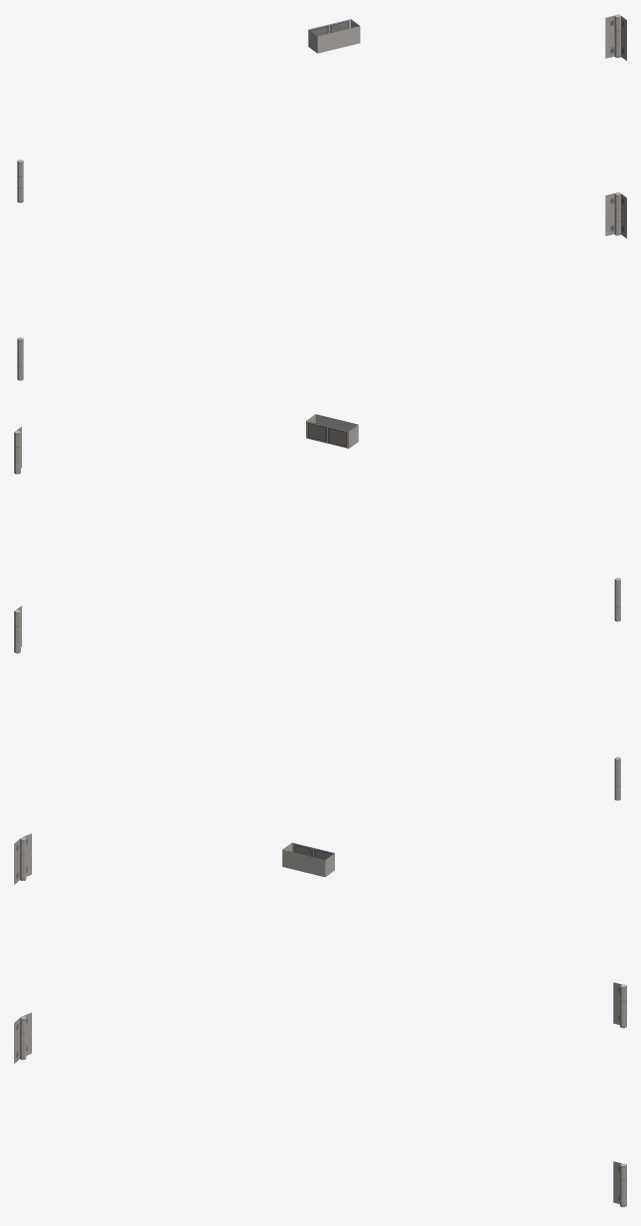
The model's file is kd_stage_135d18_4_82_bounded.glb.
3 renders of one model, top to bottom at view 1: azimuth 30°, elevation 25°; view 2: azimuth 150°, elevation 25°; view 3: azimuth 330°, elevation 25°, orthographic.
Parts seen in each view (by area): view 1: kd_stage_135d18_4_82_bounded; view 2: kd_stage_135d18_4_82_bounded; view 3: kd_stage_135d18_4_82_bounded.
Part boxes in pixels (x1=…): kd_stage_135d18_4_82_bounded: x1=17, y1=14, x2=626, y2=380; kd_stage_135d18_4_82_bounded: x1=14, y1=414, x2=620, y2=800; kd_stage_135d18_4_82_bounded: x1=14, y1=833, x2=626, y2=1207.
Bounding box in the file's own units: 1.1 × 0.5066 × 0.0872.
1 material, 1 textured.
